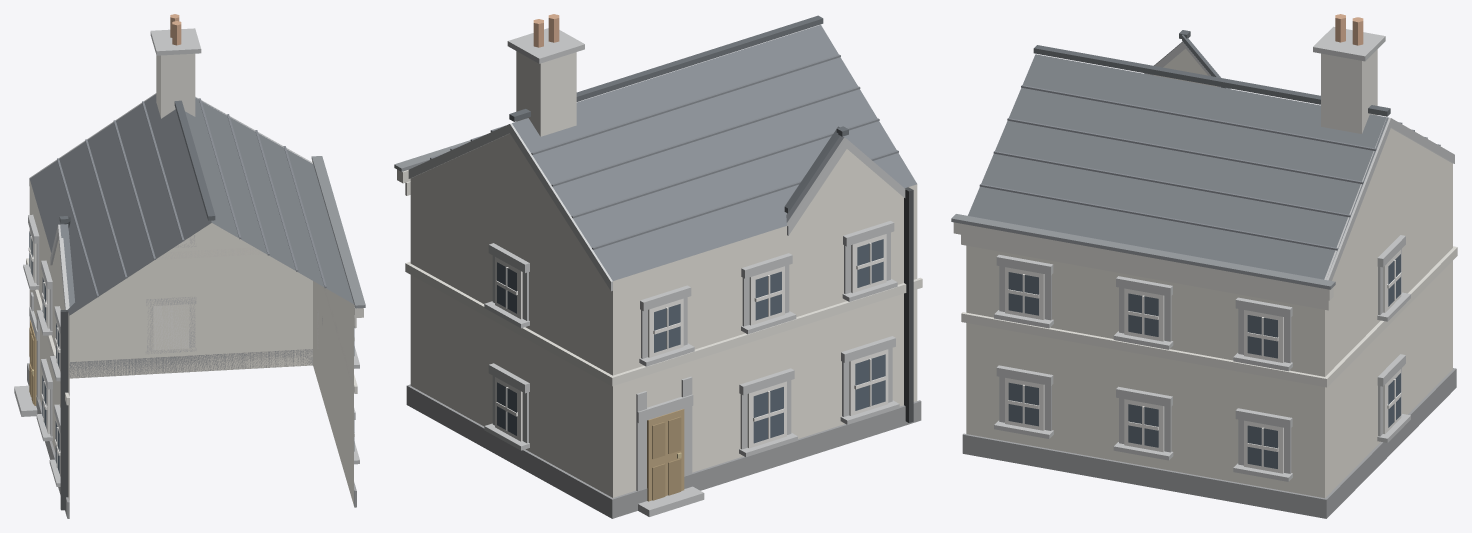
3 views of the same model, side by side, from view 1: azimuth 30°, elevation 25°; view 2: azimuth 150°, elevation 25°; view 3: azimuth 270°, elevation 25° (orthographic). The views are drawn at different scales.
Visible parts, largest first — view 1: slate, harl_cream, stone_band, plinth, slate_lt, frame, chim_render, lead, pipe, string, slate_dk; view 2: harl_cream, slate, stone_band, plinth, frame, string, slate_lt, chim_render, slate_dk, pipe, door_wood_p, door_wood (+8 smaller); view 3: harl_cream, slate, stone_band, string, plinth, frame, slate_lt, chim_render, lead, slate_dk, window_glass_007, window_glass_006 (+5 smaller).
Boxes of the visible parts, x1,y1,x2,y2 form: slate: [30, 94, 353, 315]; harl_cream: [29, 179, 353, 505]; stone_band: [14, 28, 359, 486]; plinth: [27, 349, 356, 518]; slate_lt: [57, 98, 326, 297]; frame: [28, 230, 354, 476]; chim_render: [156, 53, 195, 118]; lead: [311, 156, 365, 308]; pipe: [60, 309, 68, 510]; string: [26, 161, 363, 405]; slate_dk: [59, 100, 215, 228]; harl_cream: [410, 133, 917, 497]; slate: [512, 25, 916, 280]; stone_band: [408, 28, 905, 516]; plinth: [406, 384, 921, 518]; frame: [495, 234, 888, 448]; string: [397, 169, 922, 386]; slate_lt: [430, 54, 898, 249]; chim_render: [516, 51, 576, 136]; slate_dk: [509, 15, 848, 213]; pipe: [904, 187, 913, 422]; door_wood_p: [652, 416, 681, 500]; door_wood: [647, 409, 684, 501]; harl_cream: [966, 48, 1452, 498]; slate: [968, 41, 1388, 279]; stone_band: [994, 26, 1454, 481]; string: [953, 222, 1457, 387]; plinth: [962, 368, 1456, 518]; frame: [1005, 249, 1401, 473]; slate_lt: [979, 85, 1440, 250]; chim_render: [1321, 49, 1377, 133]; lead: [951, 214, 1335, 289]; slate_dk: [1033, 30, 1390, 116]; window_glass_007: [1008, 272, 1038, 315]; window_glass_006: [1008, 382, 1038, 426].
Bounding box in the file's own units: 10.09 × 10.05 × 10.78.
